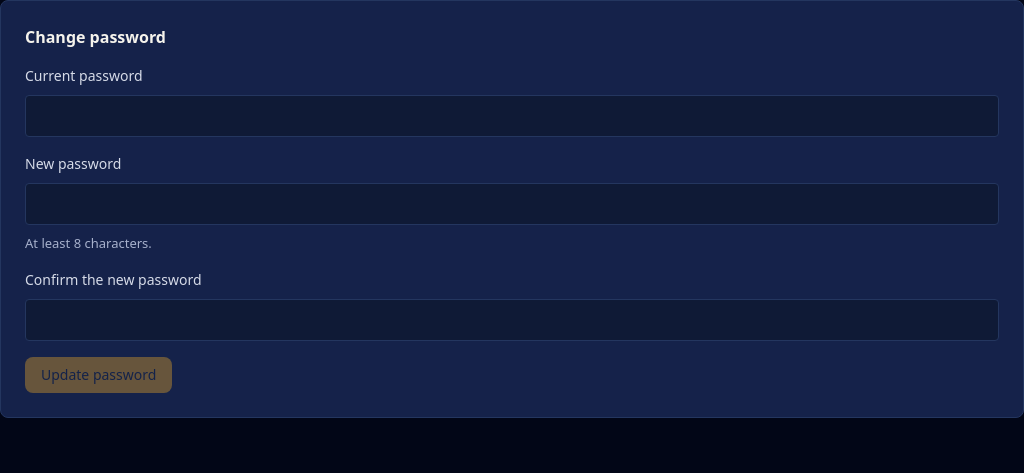
Test case: PasswordCard › shows the server message when the current password is wrong
The image size is (1024, 473).
In the password field labelled "Current password": (512, 116) [25,95,999,137], type "guess"
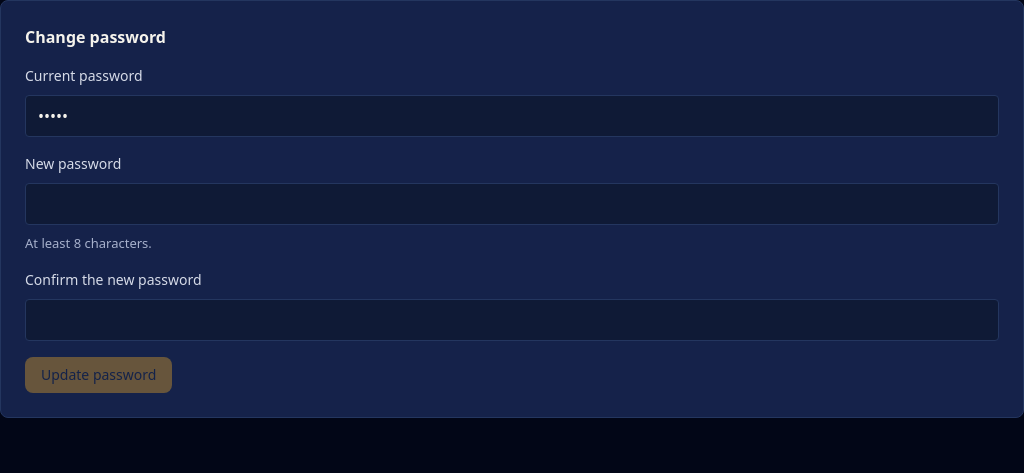
In the password field labelled "New password": (512, 204) [25,183,999,225], type "brand-new-pass"
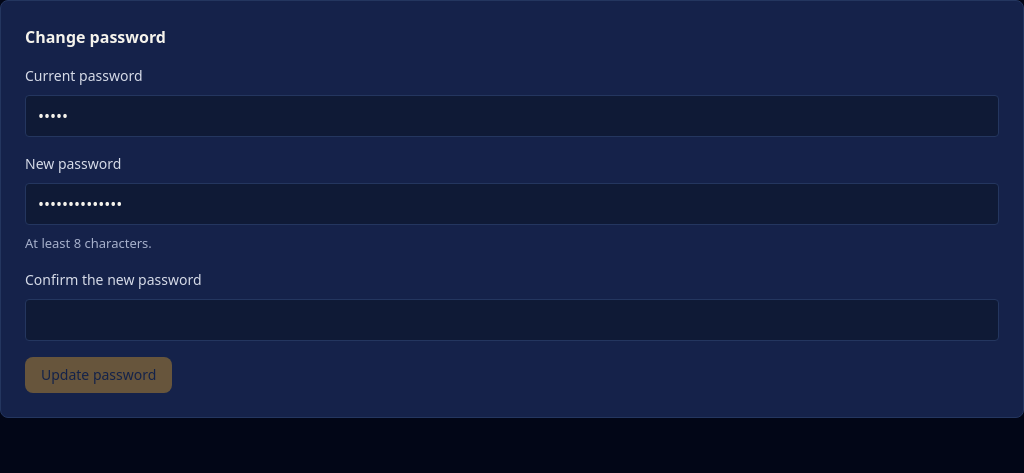
In the password field labelled "Confirm the new password": (512, 320) [25,299,999,341], type "brand-new-pass"
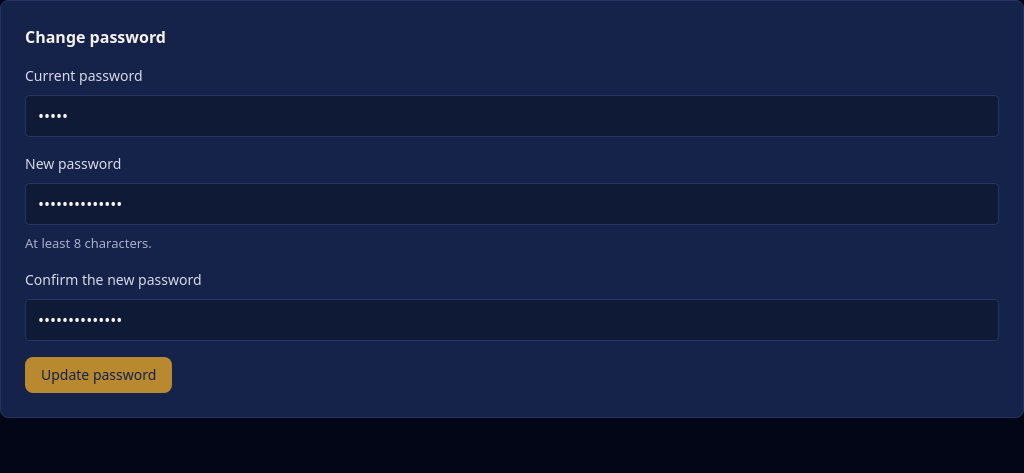
Click the button "Update password": (99, 375) [25,357,172,393]
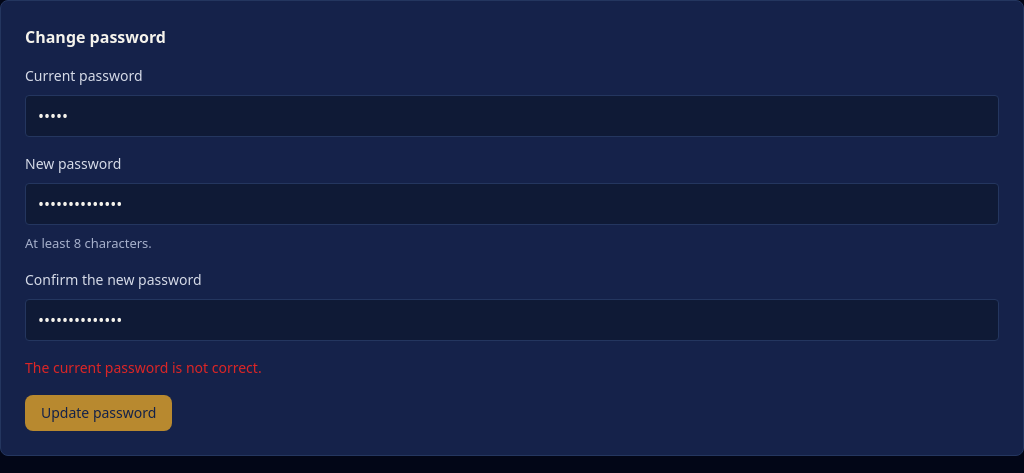
Expected: the message reads "The current password is not correct.", [25,358,262,377]
